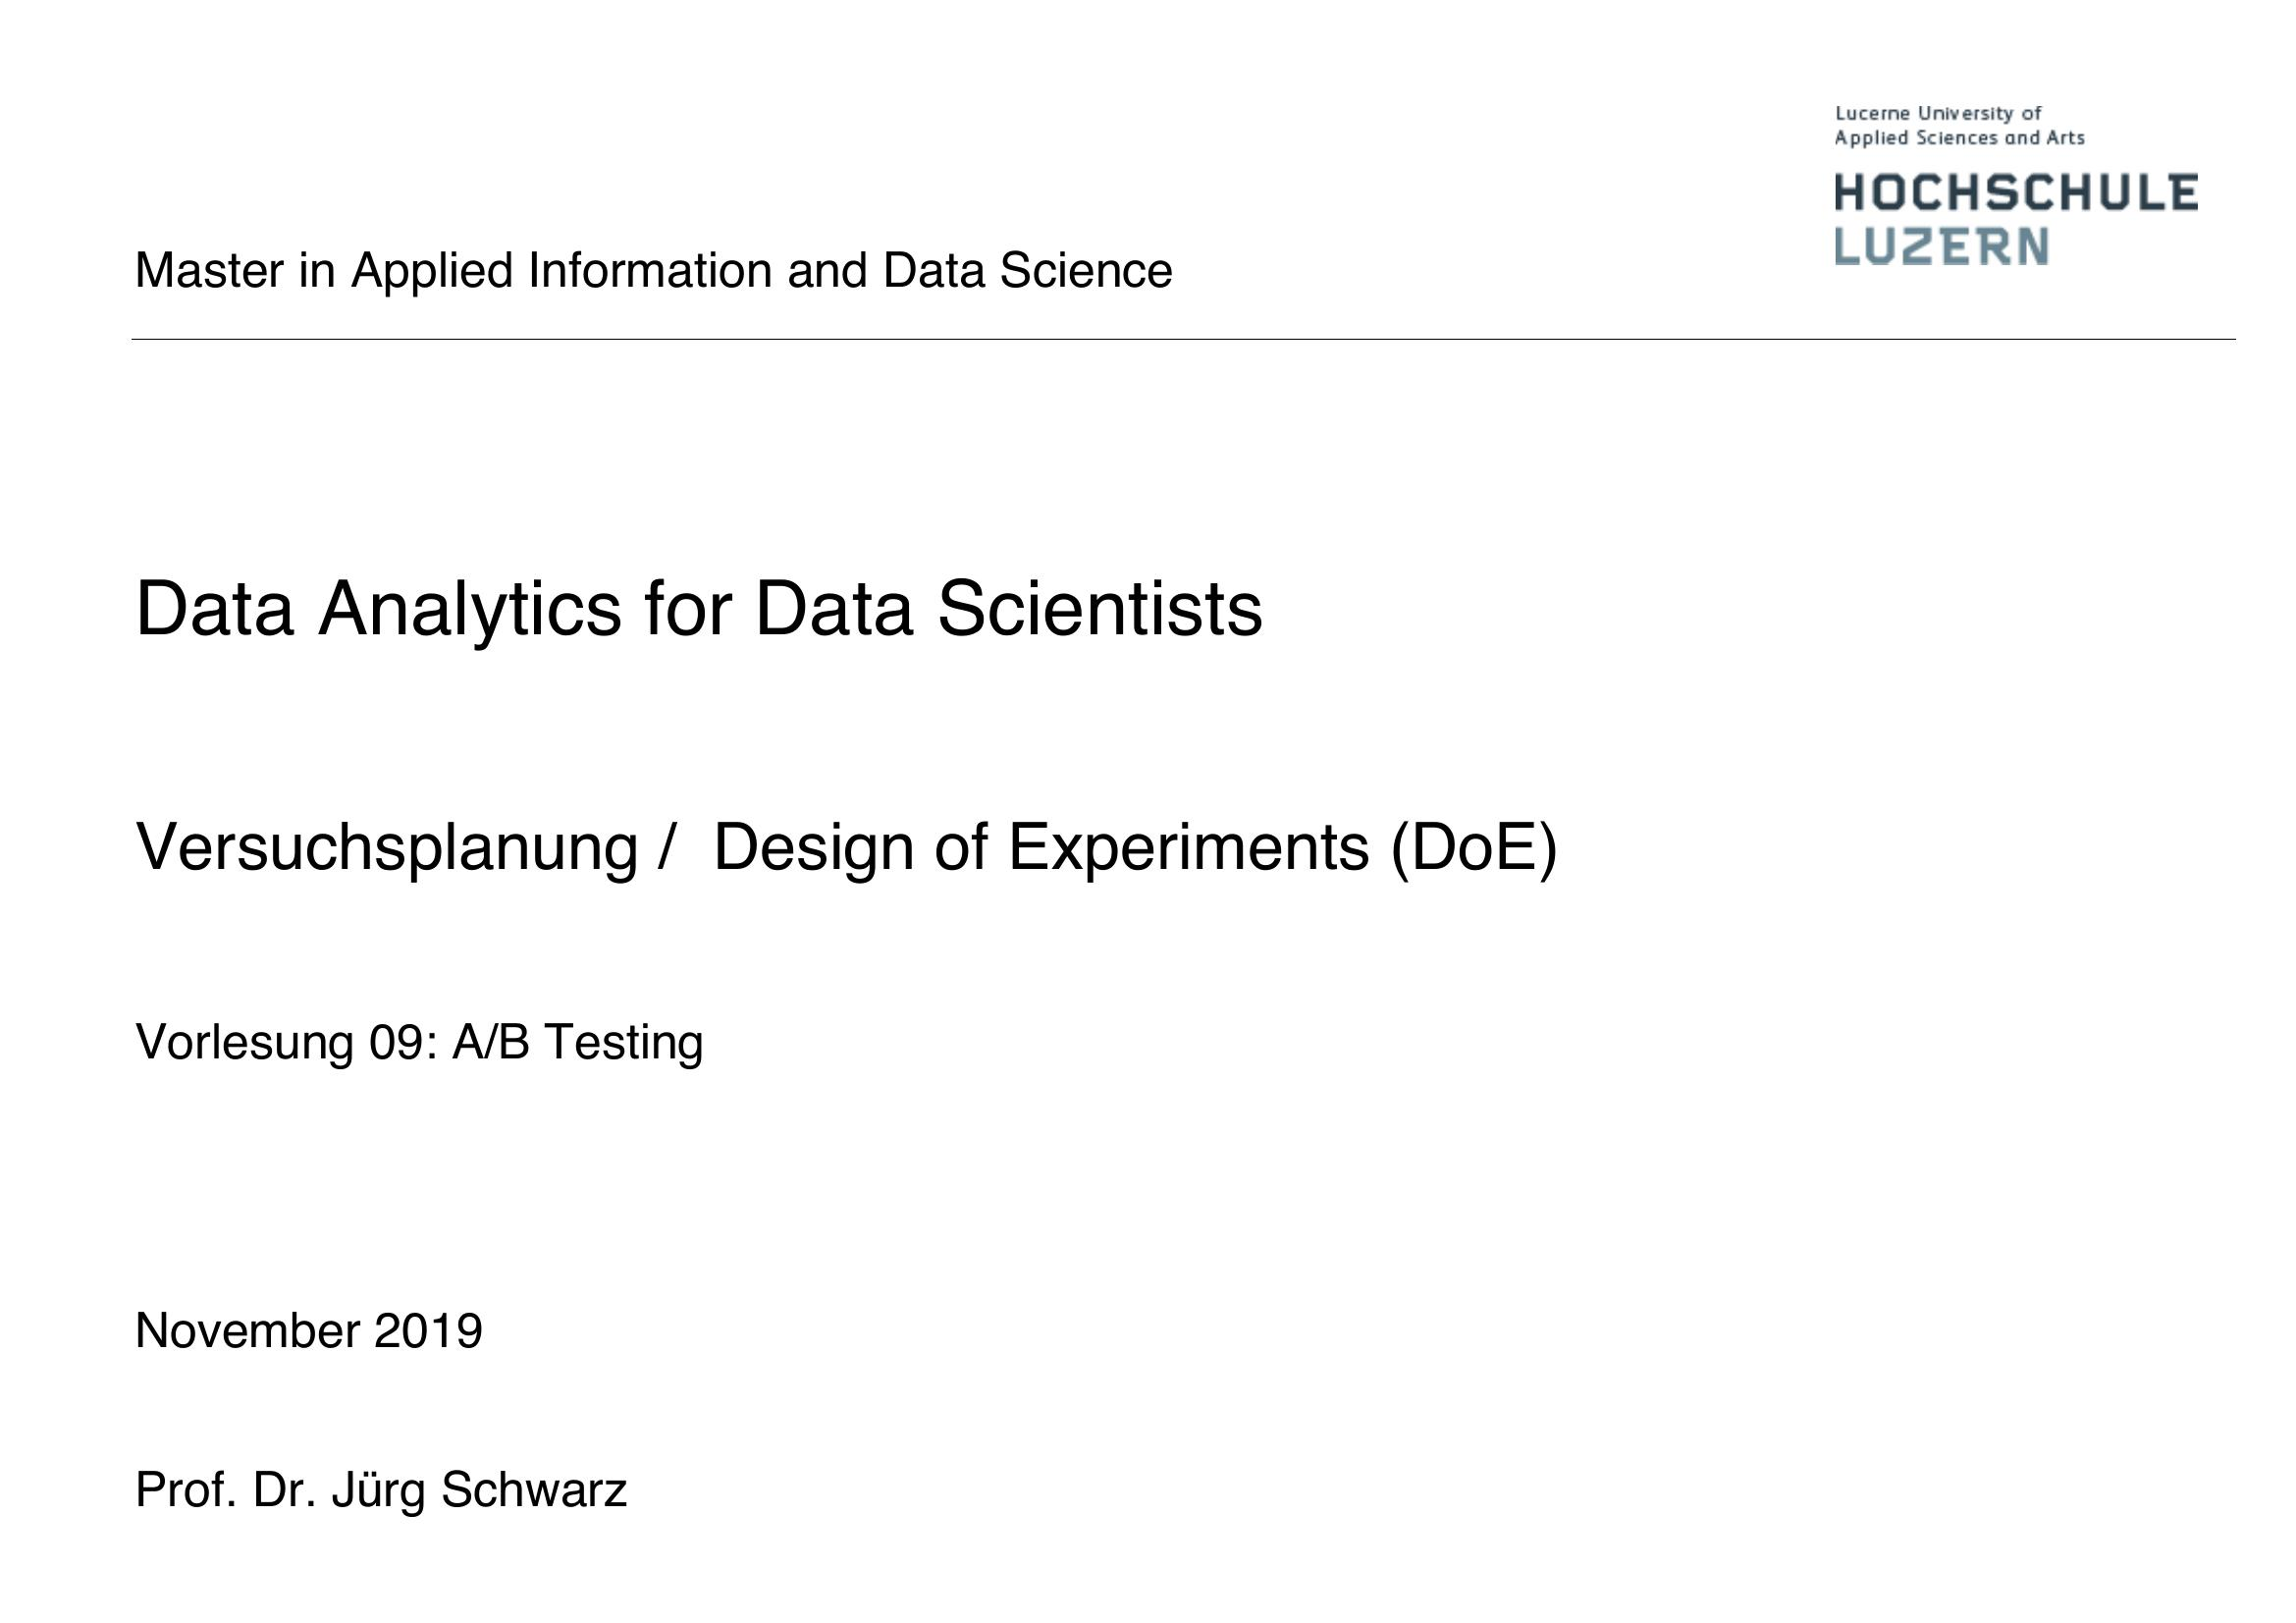Title: (121, 560, 1276, 657)
